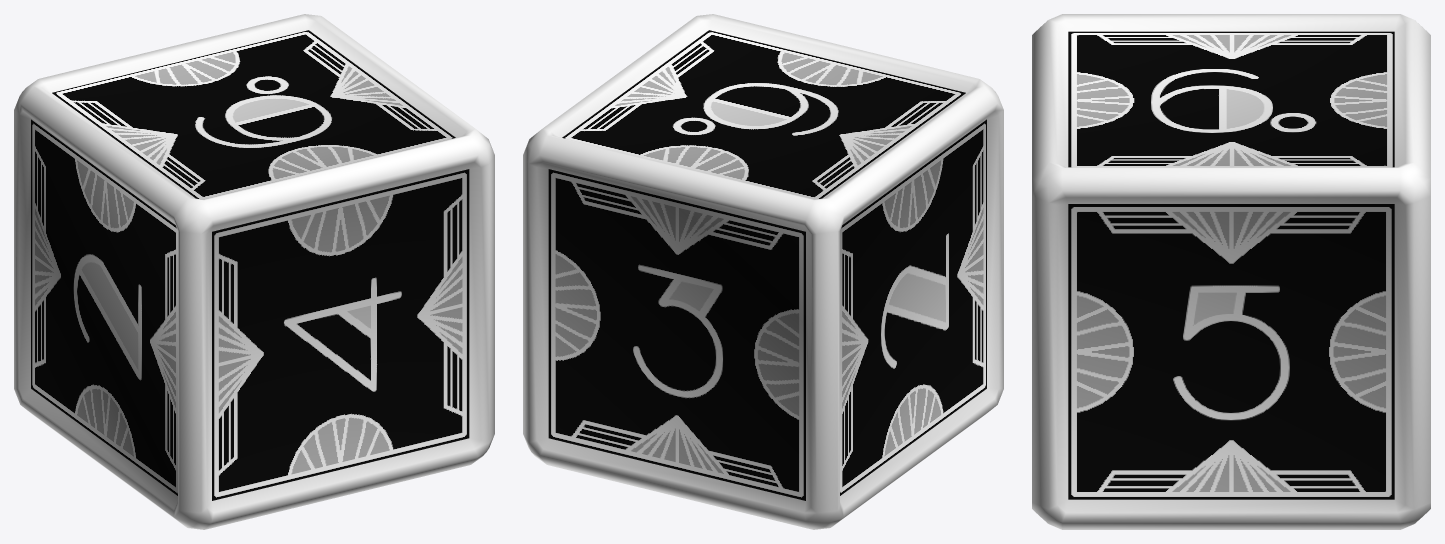
Rendered from d6-artDeco.glb.
The picture shows the model from 3 angles, left to right: view 1: azimuth 30°, elevation 25°; view 2: azimuth 150°, elevation 25°; view 3: azimuth 270°, elevation 25°; orthographic projection. The views are drawn at different scales.
Parts seen in each view (by area): view 1: ArtDecoCube; view 2: ArtDecoCube; view 3: ArtDecoCube.
Part boxes in pixels (x1=…): ArtDecoCube: x1=14, y1=14, x2=494, y2=529; ArtDecoCube: x1=523, y1=14, x2=1003, y2=529; ArtDecoCube: x1=1032, y1=14, x2=1430, y2=529.
Size of the model in its own units: 102 by 102 by 102.
Materials: 1 (1 with a texture image).
